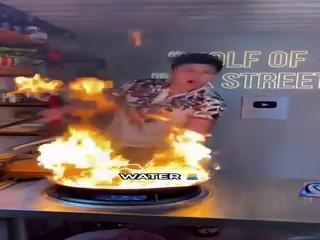Fire: (10, 71, 219, 184)
